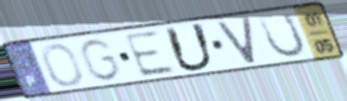E: (121, 29, 179, 79)
G: (77, 37, 123, 83)
O: (40, 42, 86, 88)
U: (161, 21, 218, 74), (255, 11, 308, 60)
V: (214, 15, 259, 66)
